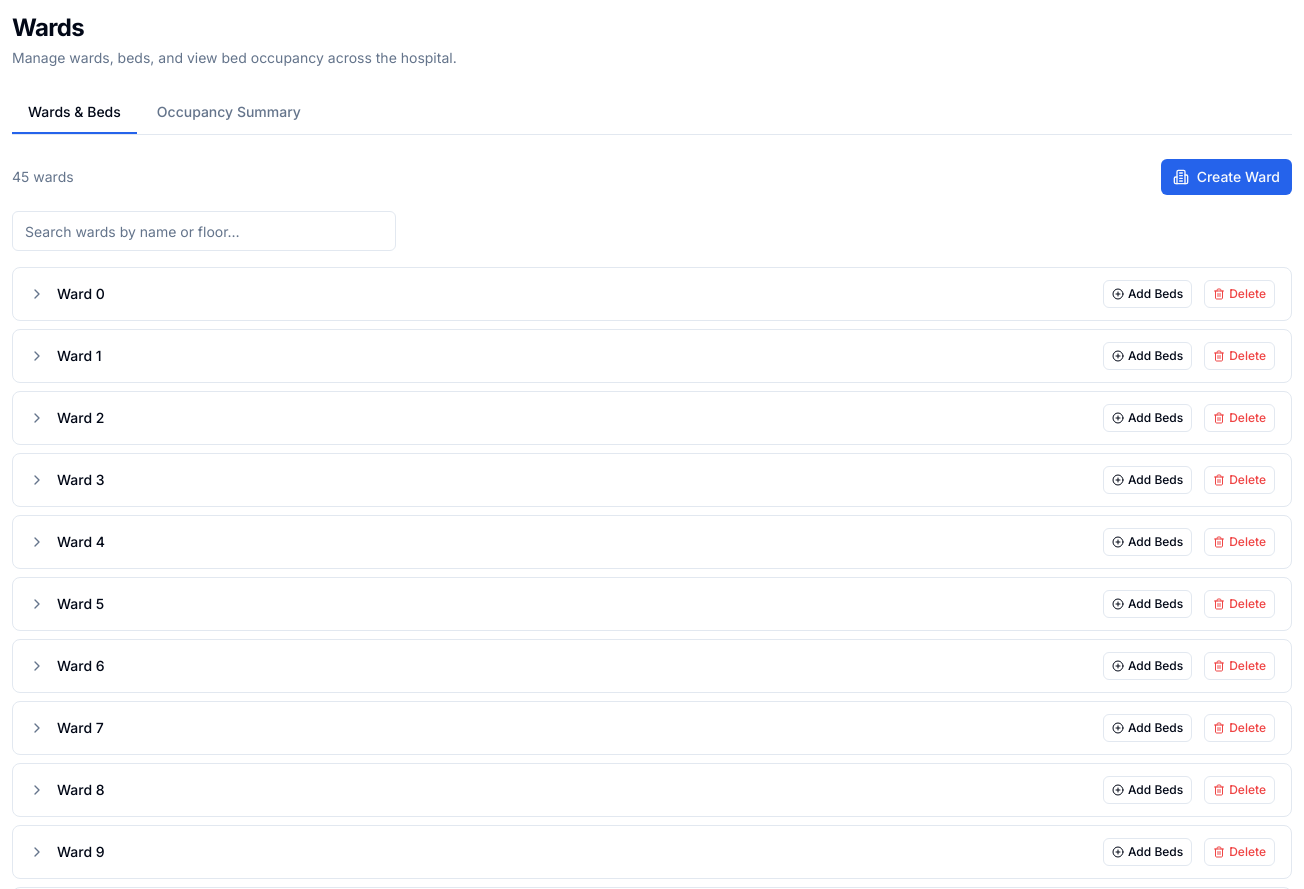
it: WardsPage — server-side pagination › empty search result shows a search-specific empty state
Type "zzz" into the field with placeholder "Search wards by name or floor…".
click(204, 231); type("zzz")  # box 12,211 -> 396,251
Wait 300 ms
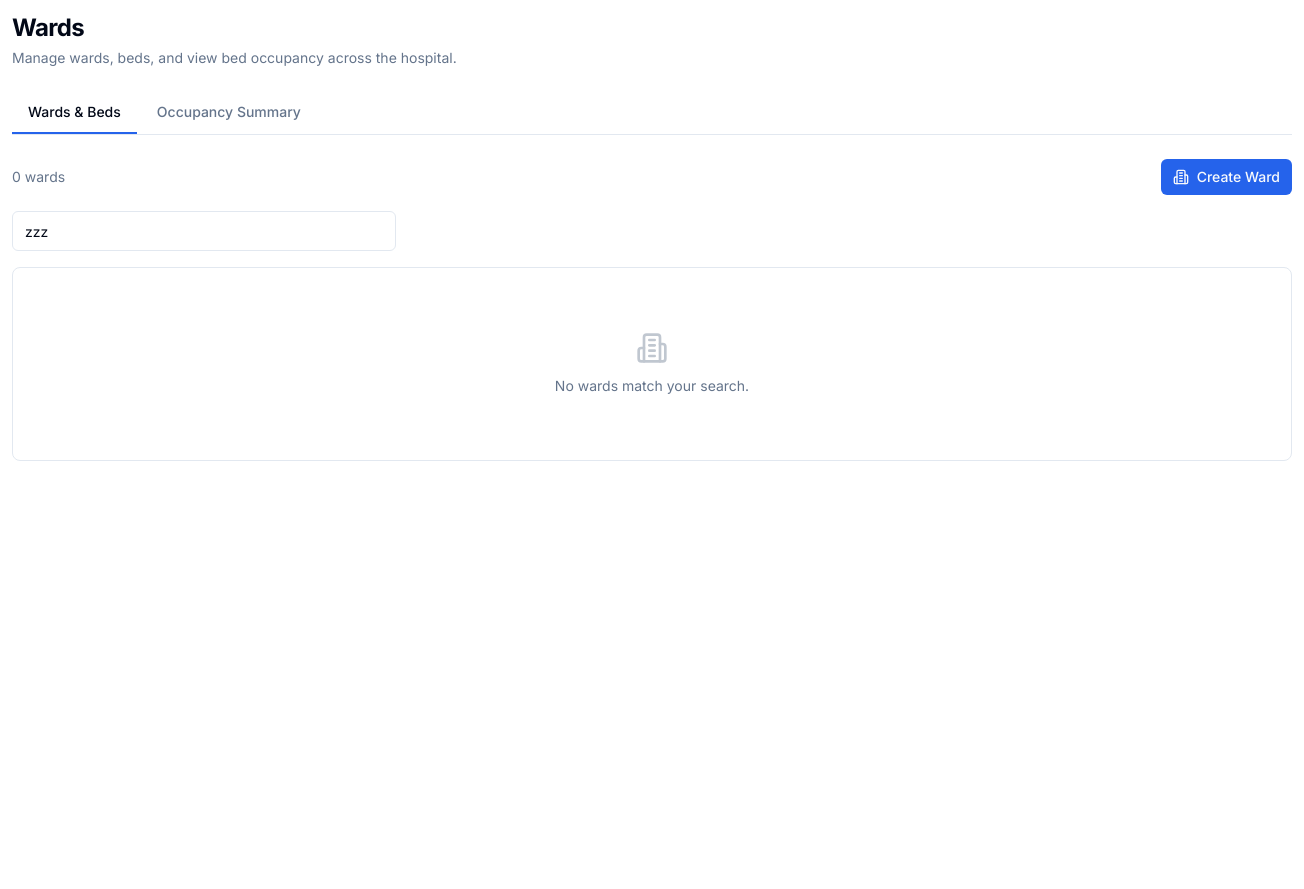
Now the text "No wards match your search." is shown, box 12,267 -> 1292,461
